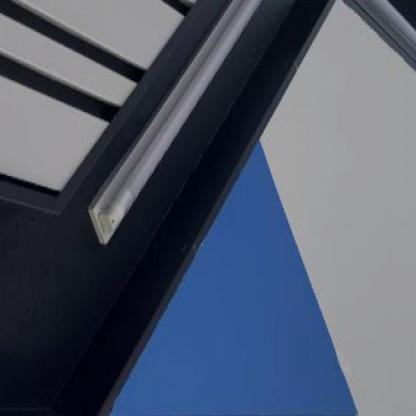light_off: (83, 0, 289, 267), (322, 0, 415, 212)
